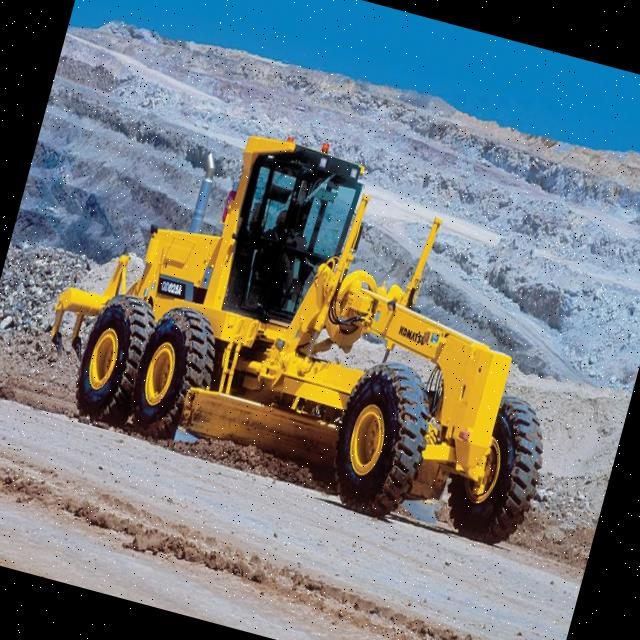Grader: (26, 89, 613, 559)
